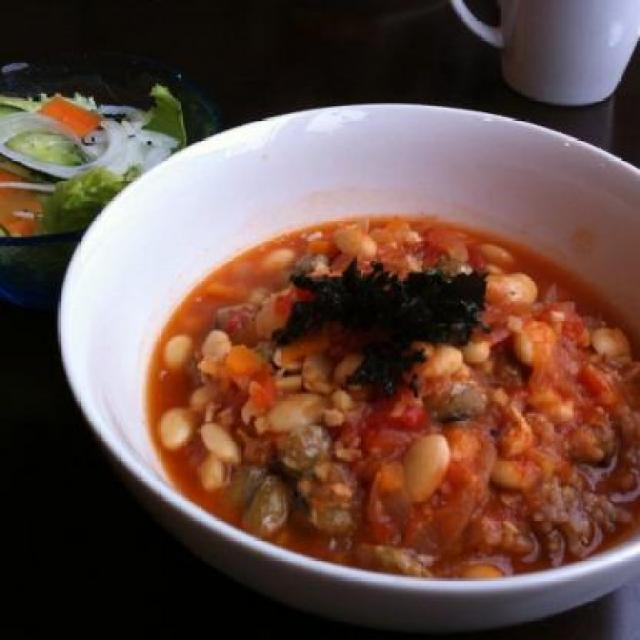Risotto: (168, 200, 634, 582)
